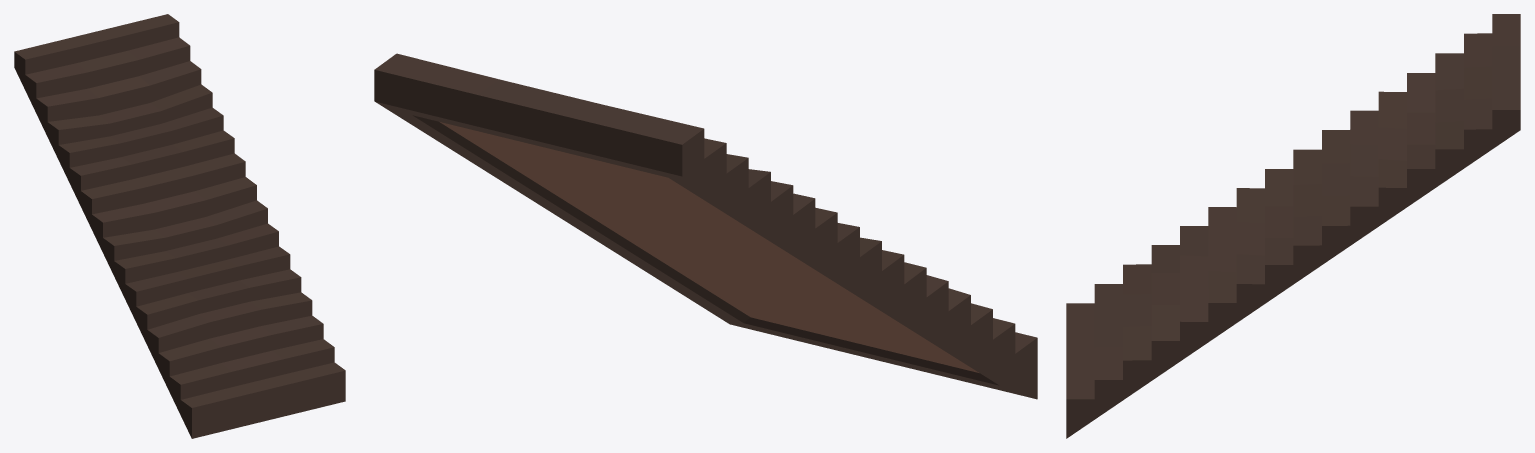
Rendered from LPHorror_Stairs.fbx.
The picture shows the model from 3 angles, left to right: view 1: azimuth 30°, elevation 25°; view 2: azimuth 150°, elevation 25°; view 3: azimuth 270°, elevation 25°; orthographic projection. The views are drawn at different scales.
Visible parts, largest first — view 1: Stairs; view 2: Stairs; view 3: Stairs.
Boxes of the visible parts, <box> form: Stairs: <box>14,14,345,438</box>; Stairs: <box>374,53,1037,399</box>; Stairs: <box>1066,14,1520,438</box>.
Bounding box in the file's own units: 200 × 320 × 400.
